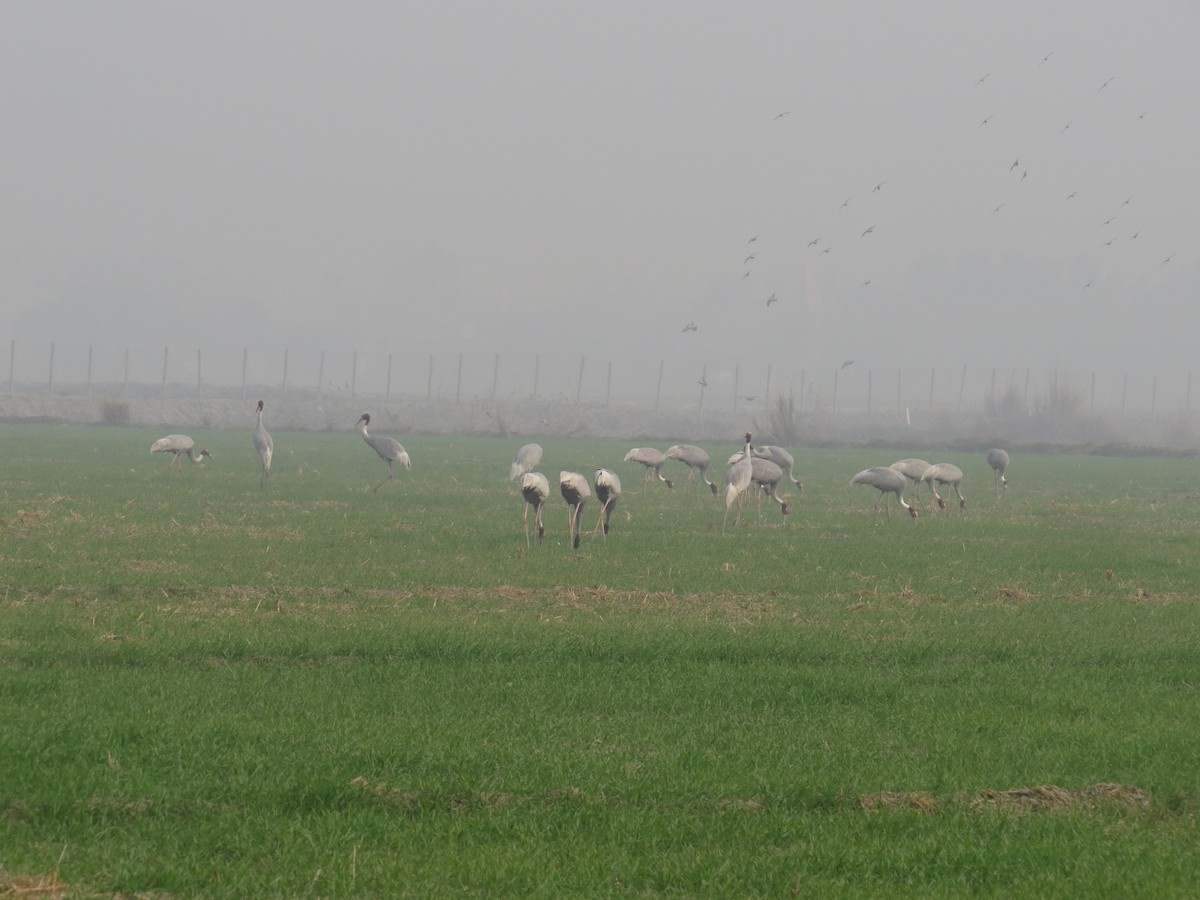crane: (349, 409, 418, 488), (844, 467, 924, 531), (149, 421, 217, 476), (721, 428, 754, 516), (627, 441, 678, 497), (671, 436, 717, 493), (893, 461, 951, 506), (249, 401, 279, 478), (981, 444, 1016, 495)
